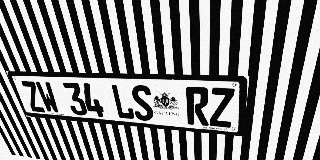3: (62, 82, 88, 116)
4: (79, 83, 105, 117)
L: (110, 84, 135, 120)
R: (186, 87, 209, 126)
S: (130, 85, 155, 121)
W: (34, 81, 61, 114)
Z: (210, 87, 235, 128), (19, 81, 46, 112)
